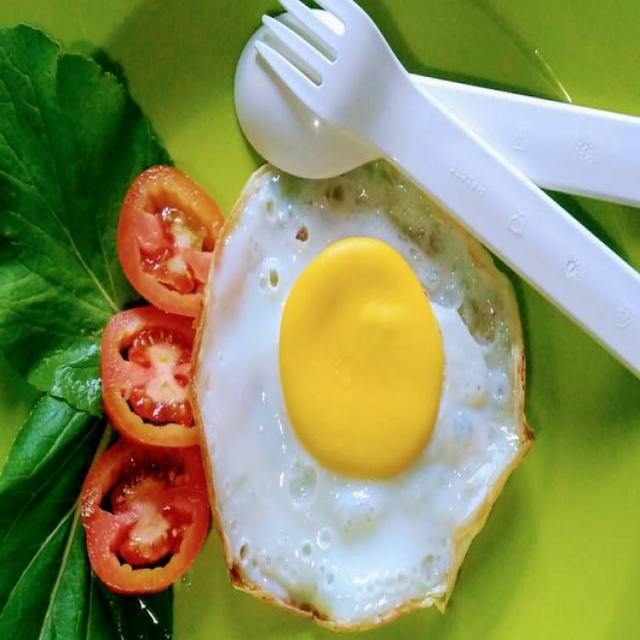Fried Egg: (200, 168, 524, 615)
